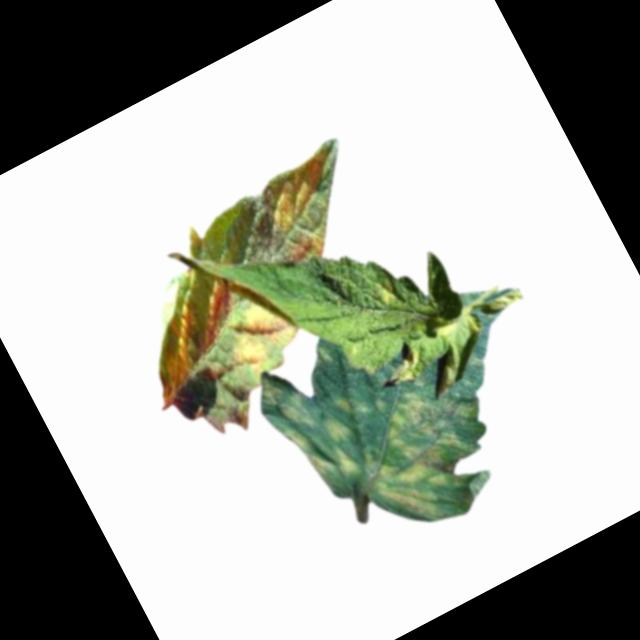Leaf_Mold: (339, 364, 511, 540), (121, 269, 261, 404), (253, 358, 364, 498), (247, 149, 367, 273), (215, 286, 310, 380), (367, 274, 403, 312)
